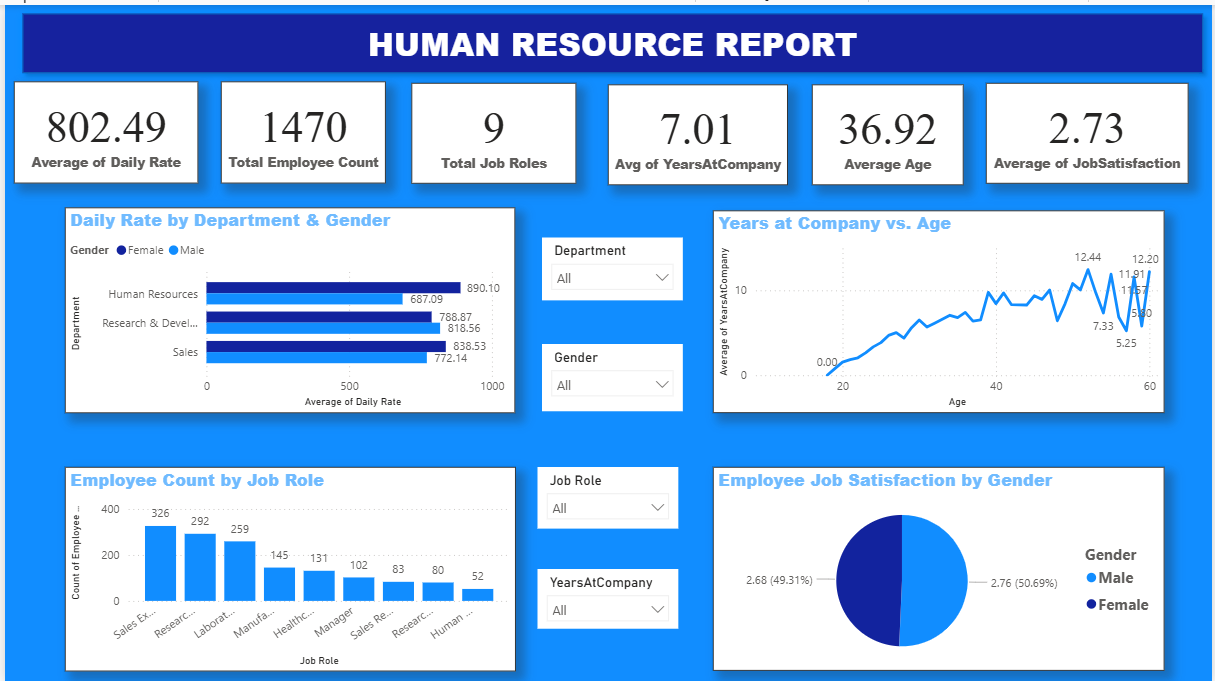

The dashboard page shown, as its layout file describes it:
{"tool":"powerbi","page":{"name":"Page 1","canvas":[1280,720],"ordinal":0},"visuals":[{"type":"shape","box":[9.4,0,1269.9,81.3],"z":0},{"type":"clusteredBarChart","title":"Daily Rate by Department & Gender","fields":{"Category":["WA_Fn-UseC_-HR-Employee-Attriti.Department"],"Y":["Avg(WA_Fn-UseC_-HR-Employee-Attriti.Daily Rate)"],"Series":["WA_Fn-UseC_-HR-Employee-Attriti.Gender"]},"box":[63.6,214.7,477.2,217.9],"z":1000},{"type":"lineChart","title":"Years at Company vs. Age","fields":{"Category":["WA_Fn-UseC_-HR-Employee-Attriti.Age"],"Y":["Avg(WA_Fn-UseC_-HR-Employee-Attriti.YearsAtCompany)"]},"box":[750.8,217.9,478.8,214.7],"z":2000},{"type":"pieChart","title":"Employee Job Satisfaction by Gender","fields":{"Category":["WA_Fn-UseC_-HR-Employee-Attriti.Gender"],"Y":["Avg(WA_Fn-UseC_-HR-Employee-Attriti.JobSatisfaction)"]},"box":[750.8,489.9,478.8,216.3],"z":3000},{"type":"clusteredColumnChart","title":"Employee Count by Job Role","fields":{"Category":["WA_Fn-UseC_-HR-Employee-Attriti.Job Role"],"Y":["CountNonNull(WA_Fn-UseC_-HR-Employee-Attriti.Employee Count)"]},"box":[63.1,490.6,477.7,217],"z":4000},{"type":"card","fields":{"Values":["Avg(WA_Fn-UseC_-HR-Employee-Attriti.YearsAtCompany)"]},"box":[639.4,84.3,190.9,106.6],"z":6000},{"type":"card","fields":{"Values":["CountNonNull(WA_Fn-UseC_-HR-Employee-Attriti.Employee Count)"]},"box":[229,81.1,175,108.2],"z":7000},{"type":"card","fields":{"Values":["Avg(WA_Fn-UseC_-HR-Employee-Attriti.Daily Rate)"]},"box":[9.5,81.1,195.6,108.2],"z":8000},{"type":"card","fields":{"Values":["Avg(WA_Fn-UseC_-HR-Employee-Attriti.Age)"]},"box":[855.7,84.3,160.7,106.6],"z":9000},{"type":"card","fields":{"Values":["Count(WA_Fn-UseC_-HR-Employee-Attriti.Job Role)"]},"box":[431.1,82.7,175,106.6],"z":9001},{"type":"card","fields":{"Values":["Avg(WA_Fn-UseC_-HR-Employee-Attriti.JobSatisfaction)"]},"box":[1040.3,82.7,214.7,106.6],"z":9002},{"type":"slicer","fields":{"Values":["WA_Fn-UseC_-HR-Employee-Attriti.Department"]},"box":[569.4,246.5,149.5,66.8],"z":9003},{"type":"slicer","fields":{"Values":["WA_Fn-UseC_-HR-Employee-Attriti.Gender"]},"box":[569.4,359.5,149.5,71.6],"z":9004},{"type":"slicer","fields":{"Values":["WA_Fn-UseC_-HR-Employee-Attriti.Job Role"]},"box":[564.7,489.9,149.5,65.2],"z":9005},{"type":"slicer","fields":{"Values":["WA_Fn-UseC_-HR-Employee-Attriti.YearsAtCompany"]},"box":[564.7,598.1,149.5,63.6],"z":9006}]}

Visuals, with their boxes in screenshot pixels (x1, y1, x2, y2), scaled from the page's 1280x720 canvas onto the 1215x681 screenshot:
shape: x1=9, y1=0, x2=1214, y2=77
"Daily Rate by Department & Gender" clusteredBarChart: x1=60, y1=203, x2=513, y2=409
"Years at Company vs. Age" lineChart: x1=713, y1=206, x2=1167, y2=409
"Employee Job Satisfaction by Gender" pieChart: x1=713, y1=463, x2=1167, y2=668
"Employee Count by Job Role" clusteredColumnChart: x1=60, y1=464, x2=513, y2=669
card - Avg(WA_Fn-UseC_-HR-Employee-Attriti.YearsAtCompany): x1=607, y1=80, x2=788, y2=181
card - CountNonNull(WA_Fn-UseC_-HR-Employee-Attriti.Employee Count): x1=217, y1=77, x2=383, y2=179
card - Avg(WA_Fn-UseC_-HR-Employee-Attriti.Daily Rate): x1=9, y1=77, x2=195, y2=179
card - Avg(WA_Fn-UseC_-HR-Employee-Attriti.Age): x1=812, y1=80, x2=965, y2=181
card - Count(WA_Fn-UseC_-HR-Employee-Attriti.Job Role): x1=409, y1=78, x2=575, y2=179
card - Avg(WA_Fn-UseC_-HR-Employee-Attriti.JobSatisfaction): x1=987, y1=78, x2=1191, y2=179
slicer - WA_Fn-UseC_-HR-Employee-Attriti.Department: x1=540, y1=233, x2=682, y2=296
slicer - WA_Fn-UseC_-HR-Employee-Attriti.Gender: x1=540, y1=340, x2=682, y2=408
slicer - WA_Fn-UseC_-HR-Employee-Attriti.Job Role: x1=536, y1=463, x2=678, y2=525
slicer - WA_Fn-UseC_-HR-Employee-Attriti.YearsAtCompany: x1=536, y1=566, x2=678, y2=626
